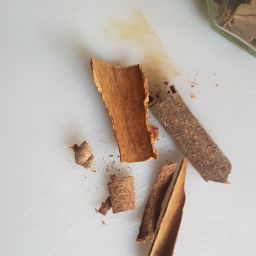Cinemon stick: (76, 49, 256, 256), (144, 72, 243, 189), (82, 56, 166, 167), (69, 136, 141, 216), (137, 163, 195, 256)
